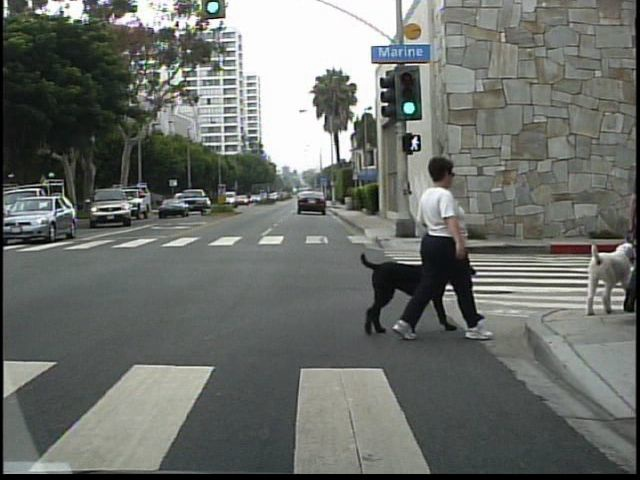person: (404, 145, 477, 346)
